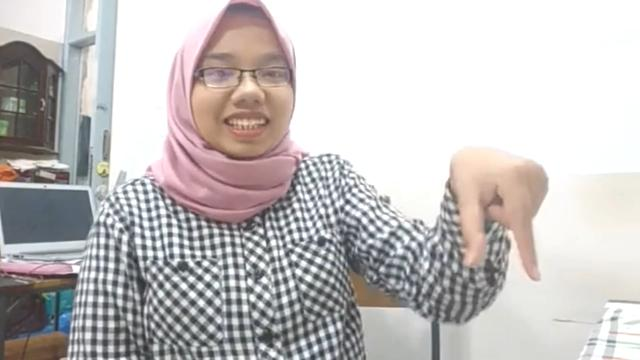Q: (448, 140, 554, 282)
